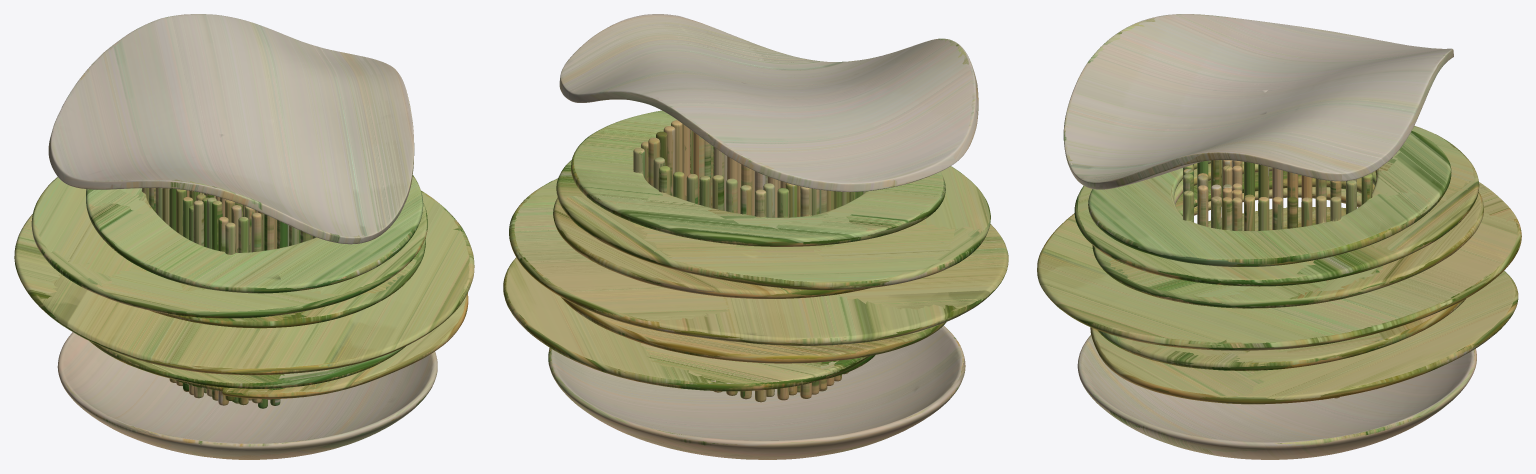
File: assembl-mark.glb
3 views of the same model, side by side, from view 1: azimuth 30°, elevation 25°; view 2: azimuth 150°, elevation 25°; view 3: azimuth 270°, elevation 25° (orthographic). The views are drawn at different scales.
Visible parts, largest first — view 1: material; view 2: material; view 3: material.
Part boxes in pixels (x1,y1,x2,y2): material: (14,14,474,459); material: (503,14,1008,459); material: (1037,14,1521,459).
Bounding box in the file's own units: 1.09 × 0.9059 × 1.09.
Materials: 1 (1 with a texture image).
